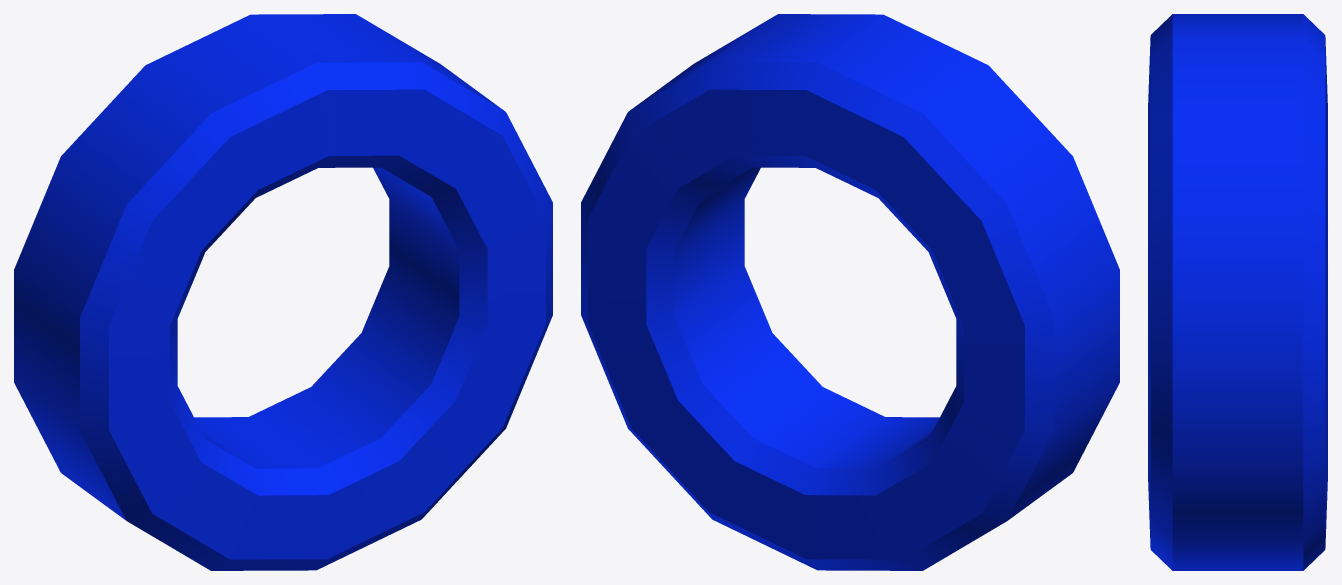
Rendered from Tier_Low.fbx.
3 views of the same model, side by side, from view 1: azimuth 30°, elevation 25°; view 2: azimuth 150°, elevation 25°; view 3: azimuth 270°, elevation 25° (orthographic).
Parts seen in each view (by area): view 1: Tube001_Low; view 2: Tube001_Low; view 3: Tube001_Low.
Part boxes in pixels (<box>): Tube001_Low: <box>14,14,552,570</box>; Tube001_Low: <box>581,14,1119,570</box>; Tube001_Low: <box>1148,14,1327,570</box>.
Bounding box in the file's own units: 19.16 × 19.66 × 6.35.
